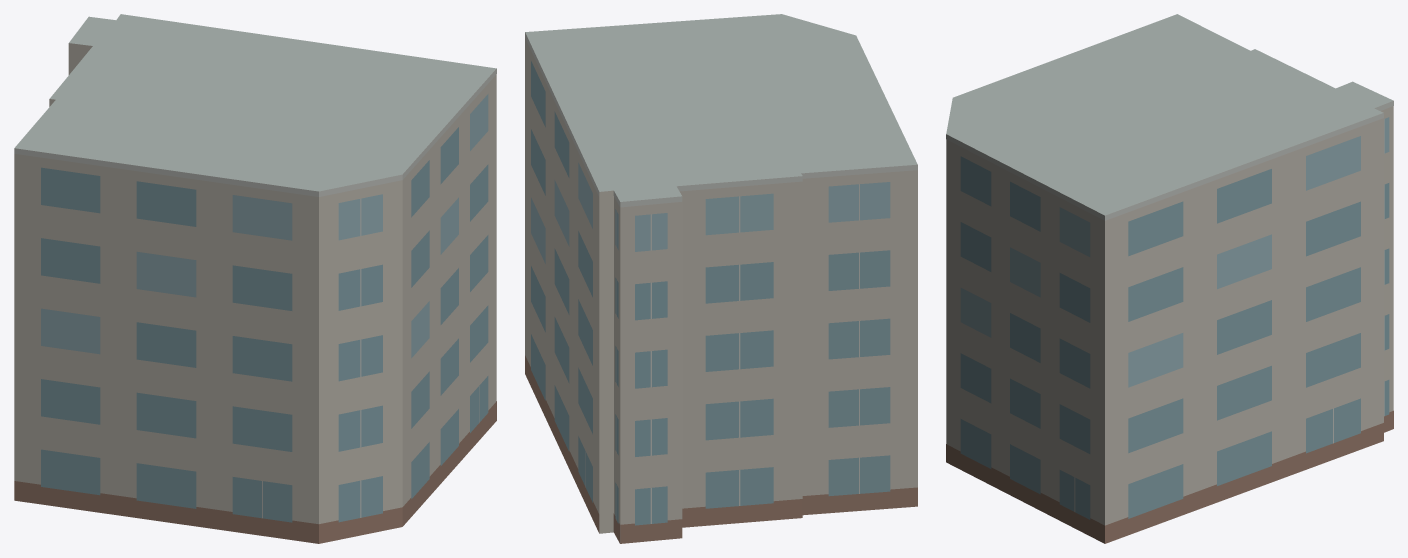
The model's file is survey-upis-32996680.glb.
The picture shows the model from 3 angles, left to right: view 1: azimuth 30°, elevation 25°; view 2: azimuth 150°, elevation 25°; view 3: azimuth 270°, elevation 25°; orthographic projection. The views are drawn at different scales.
Visible parts, largest first — view 1: survey-upis-32996680.tmp; view 2: survey-upis-32996680.tmp; view 3: survey-upis-32996680.tmp.
Boxes of the visible parts, x1=… form: survey-upis-32996680.tmp: x1=14, y1=14, x2=496, y2=543; survey-upis-32996680.tmp: x1=525, y1=14, x2=917, y2=543; survey-upis-32996680.tmp: x1=946, y1=14, x2=1393, y2=543.
Size of the model in its own units: 20.17 by 15.3 by 18.92.
